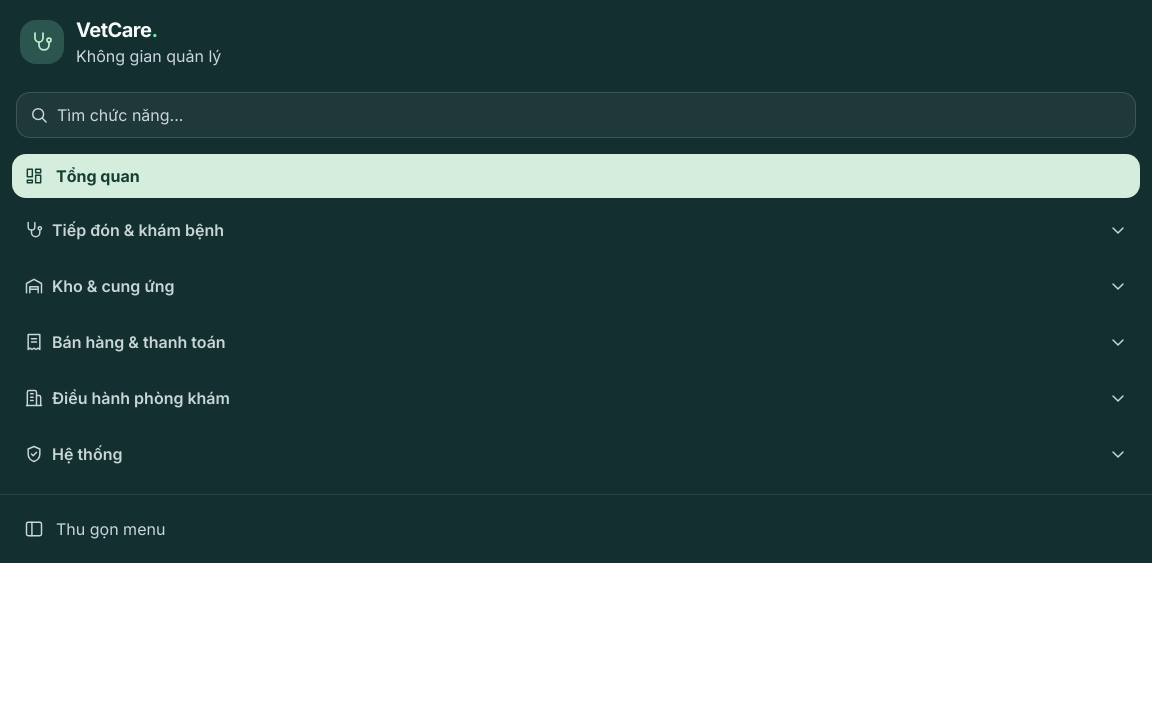
Test: Grouped staff navigation › finds Vietnamese labels without accents and reports no results
This screenshot has width=1152, height=720.
In the search field labelled "Tìm chức năng": (590, 115) [57, 93, 1123, 137], type "hoa don"
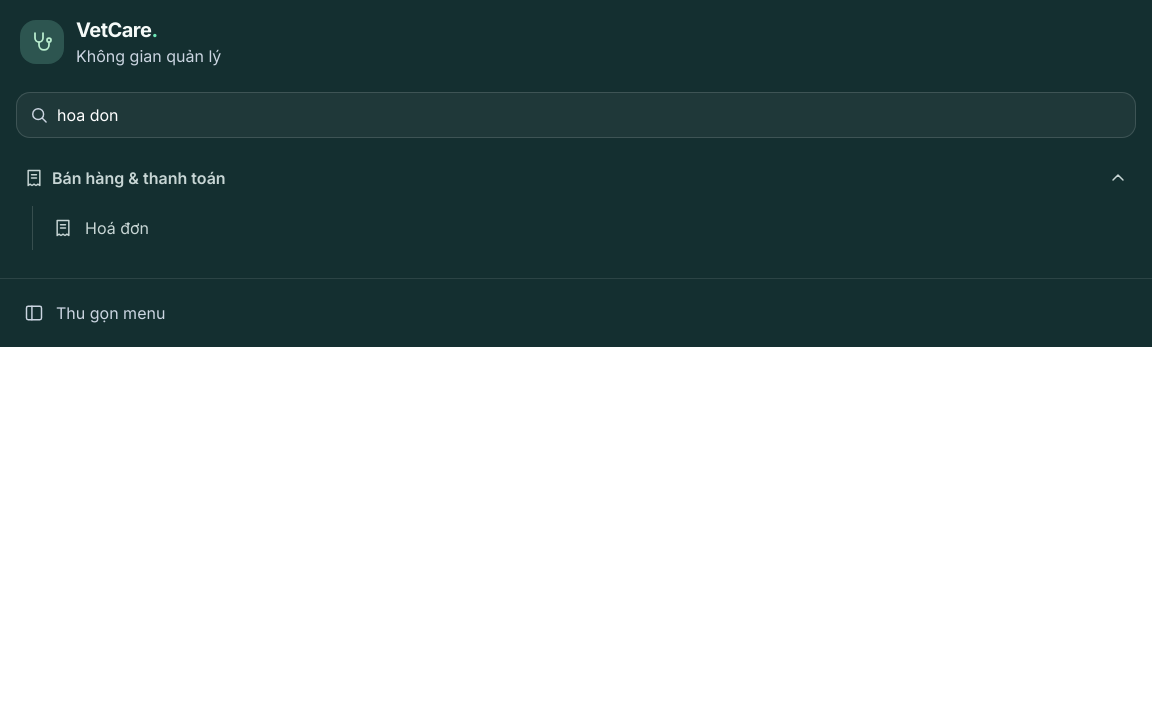
Expected: the link "Hoá đơn" is shown, [53, 218, 149, 238]
Expected: the button "Kho & cung ứng" is gone
Replace the text in the search field named "Tìm chức năng" with "khong-co-chuc-nang-nay": (590, 115) [57, 93, 1123, 137]
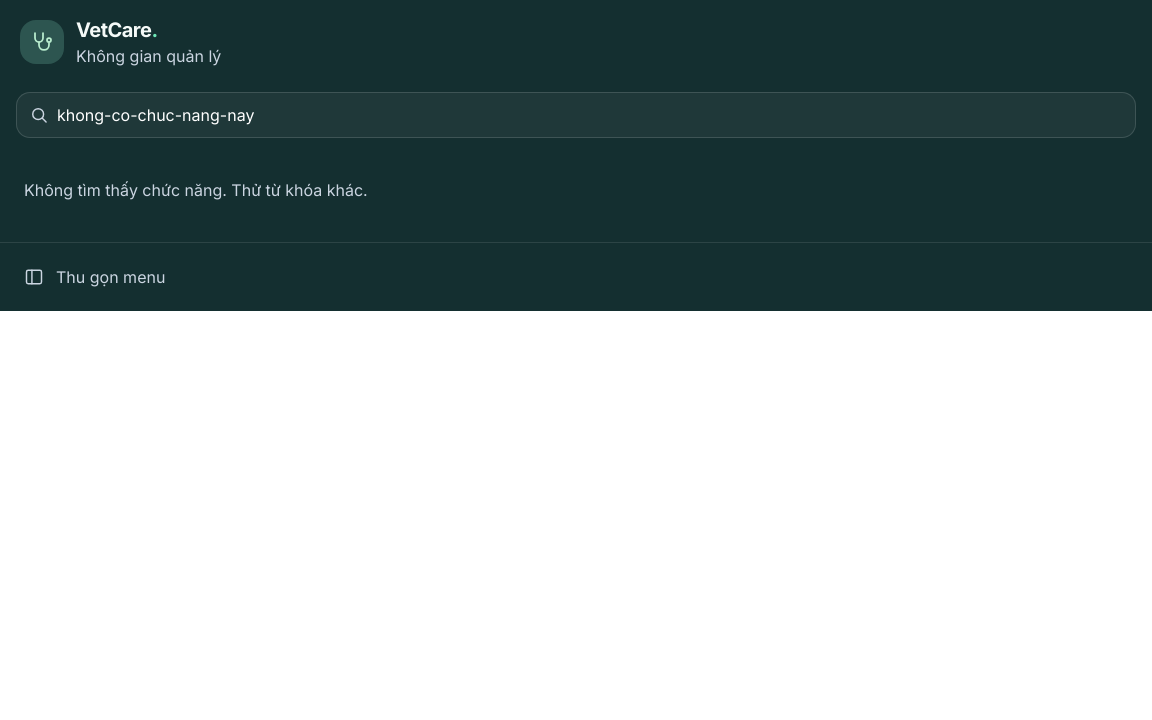
Expected: the text "Không tìm thấy chức năng. Thử từ khóa khác." is shown, [24, 180, 368, 200]
